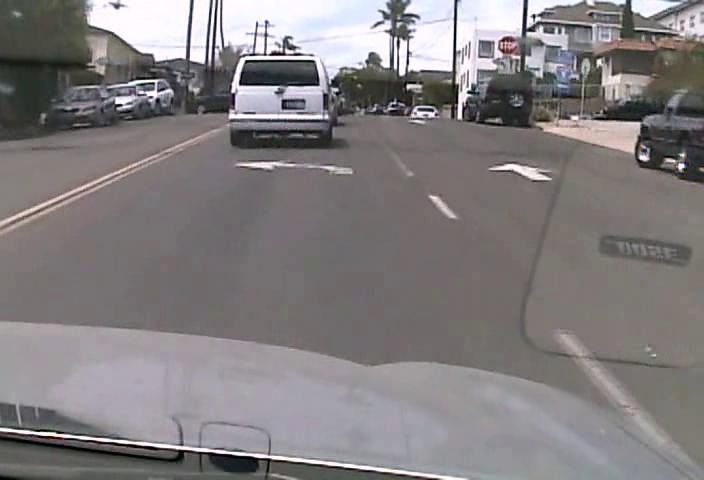stop: (497, 34, 518, 55)
